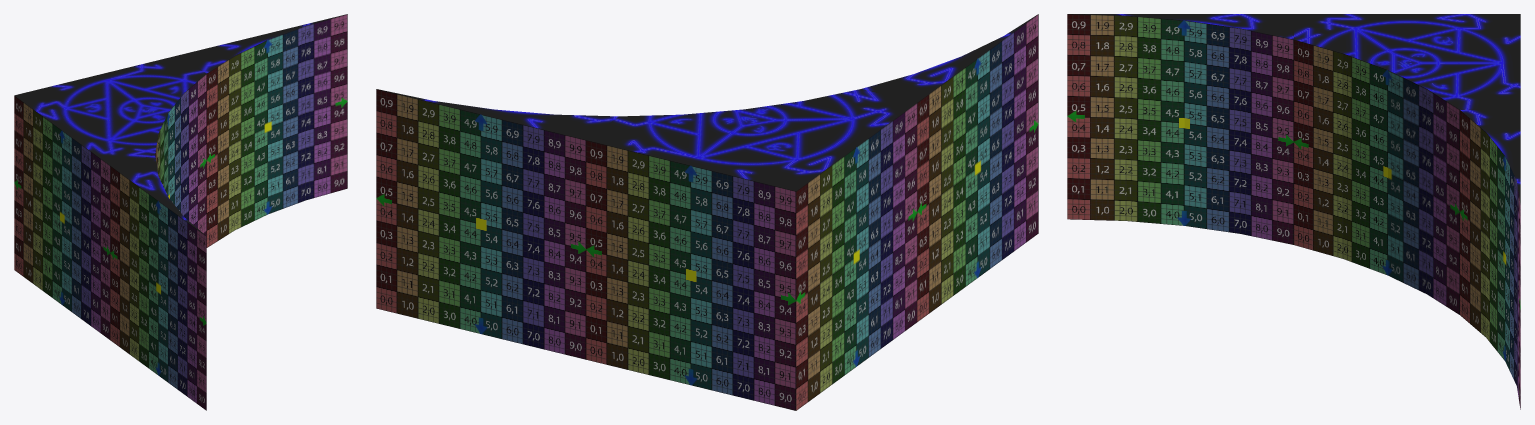
The model's file is BlockInnerCorner2.fbx.
The picture shows the model from 3 angles, left to right: view 1: azimuth 30°, elevation 25°; view 2: azimuth 150°, elevation 25°; view 3: azimuth 270°, elevation 25°; orthographic projection. The views are drawn at different scales.
Parts seen in each view (by area): view 1: BlockInnerCorner2; view 2: BlockInnerCorner2; view 3: BlockInnerCorner2.
Boxes of the visible parts, left/top/right/bottom form: BlockInnerCorner2: left=14, top=14, right=347, bottom=410; BlockInnerCorner2: left=376, top=14, right=1038, bottom=410; BlockInnerCorner2: left=1067, top=14, right=1520, bottom=409.
Bounding box in the file's own units: 200 × 100 × 200.
